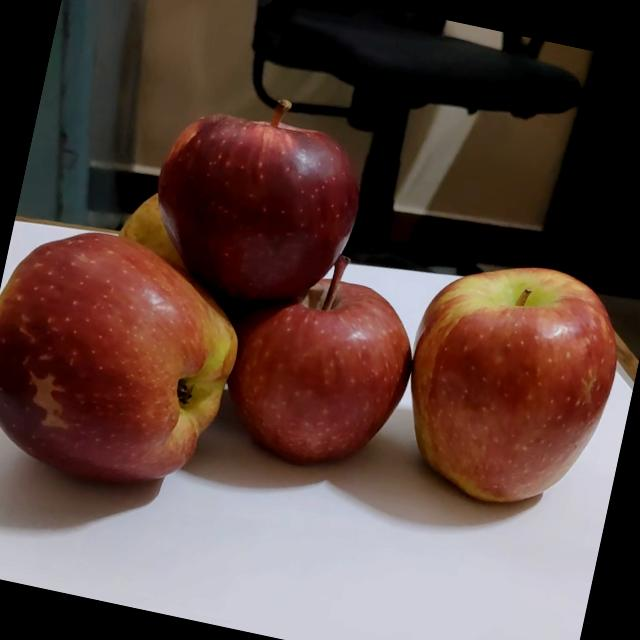apple: (0, 214, 270, 517), (390, 237, 640, 522), (140, 71, 388, 321), (215, 235, 442, 489), (106, 174, 233, 294)
